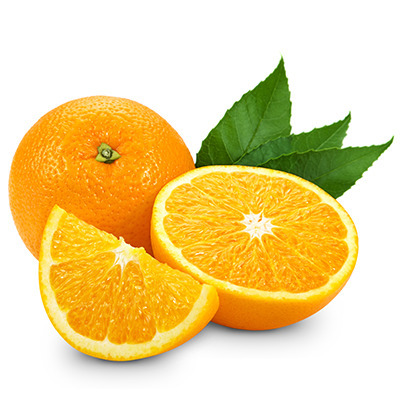orange: (2, 94, 203, 299)
